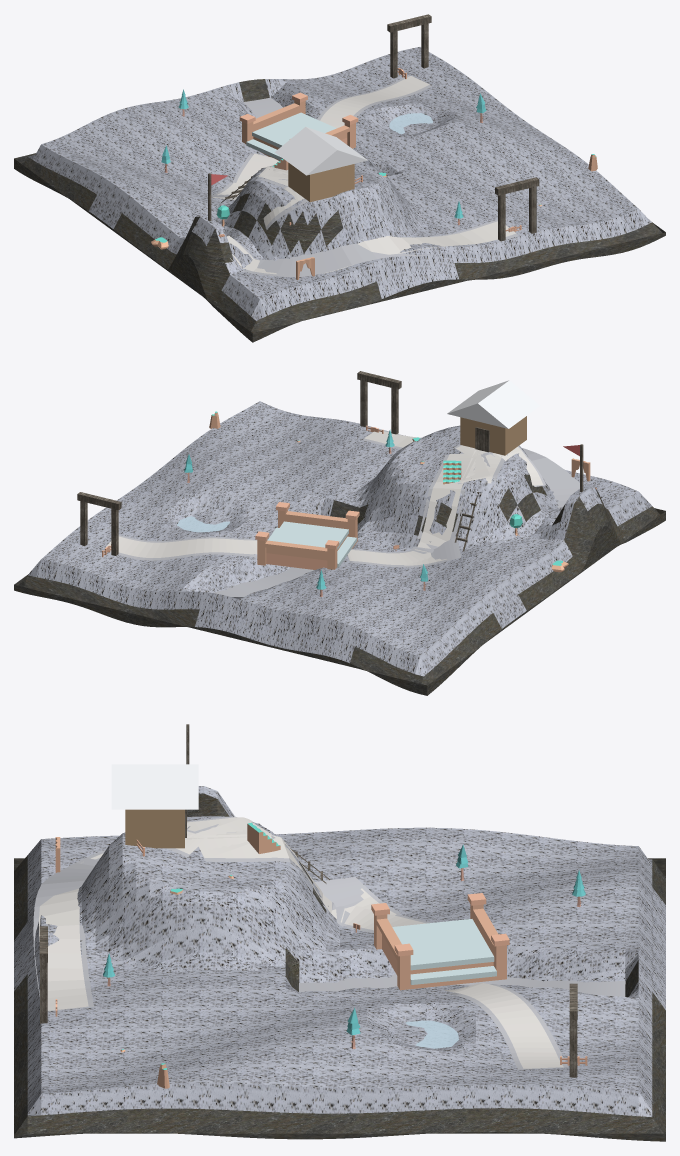
The model's file is world3_snow.glb.
3 renders of one model, top to bottom at view 1: azimuth 30°, elevation 25°; view 2: azimuth 150°, elevation 25°; view 3: azimuth 270°, elevation 25°, orthographic. The views are drawn at different scales.
Parts seen in each view (by area): view 1: W3_Terrain, bridge_wood, W3_RoadCase_7, W3_CabinRoof, W3_Road_7, W3_CabinBase, W3_Road_0, W3_Road_1, W3_IcePond; view 2: W3_Terrain, bridge_wood, W3_Road_1, W3_CabinRoof, W3_Road_0, W3_CabinBase, W3_RoadCase_7, W3_Wash, W3_RoadCase_1, W3_RoadCase_0, W3_RoadCase_2, W3_IcePond; view 3: W3_Terrain, bridge_wood, W3_Road_7, W3_CabinRoof, W3_Road_0, W3_Road_1, W3_Wash, W3_CabinBase, W3_RoadCase_7, W3_RoadCase_2, W3_RoadCase_0, W3_IcePond (+3 smaller).
Part boxes in pixels (bbox=[...]): W3_Terrain: bbox=[14, 47, 665, 342]; bridge_wood: bbox=[239, 92, 358, 160]; W3_RoadCase_7: bbox=[230, 219, 518, 276]; W3_CabinRoof: bbox=[274, 126, 367, 175]; W3_Road_7: bbox=[226, 221, 516, 274]; W3_CabinBase: bbox=[288, 162, 354, 202]; W3_Road_0: bbox=[320, 76, 429, 128]; W3_Road_1: bbox=[236, 153, 288, 195]; W3_IcePond: bbox=[389, 113, 432, 134]; W3_Terrain: bbox=[14, 401, 665, 695]; bridge_wood: bbox=[255, 502, 359, 569]; W3_Road_1: bbox=[347, 453, 478, 564]; W3_CabinRoof: bbox=[447, 380, 540, 428]; W3_Road_0: bbox=[105, 536, 257, 557]; W3_CabinBase: bbox=[460, 416, 526, 455]; W3_RoadCase_7: bbox=[362, 429, 579, 510]; W3_Wash: bbox=[214, 567, 314, 596]; W3_RoadCase_1: bbox=[348, 454, 481, 566]; W3_RoadCase_0: bbox=[104, 535, 257, 560]; W3_RoadCase_2: bbox=[404, 536, 460, 567]; W3_IcePond: bbox=[177, 516, 230, 532]; W3_Terrain: bbox=[14, 786, 665, 1141]; bridge_wood: bbox=[371, 893, 509, 990]; W3_Road_7: bbox=[39, 853, 103, 1010]; W3_CabinRoof: bbox=[111, 764, 198, 809]; W3_Road_0: bbox=[442, 983, 563, 1068]; W3_Road_1: bbox=[193, 833, 426, 930]; W3_Wash: bbox=[299, 973, 625, 996]; W3_CabinBase: bbox=[125, 809, 184, 848]; W3_RoadCase_7: bbox=[33, 850, 105, 1011]; W3_RoadCase_2: bbox=[315, 877, 400, 914]; W3_RoadCase_0: bbox=[449, 984, 568, 1069]; W3_IcePond: bbox=[405, 1020, 458, 1048].
Bounding box in the file's own units: 24 × 7.65 × 24.
19 materials, 3 textured.
